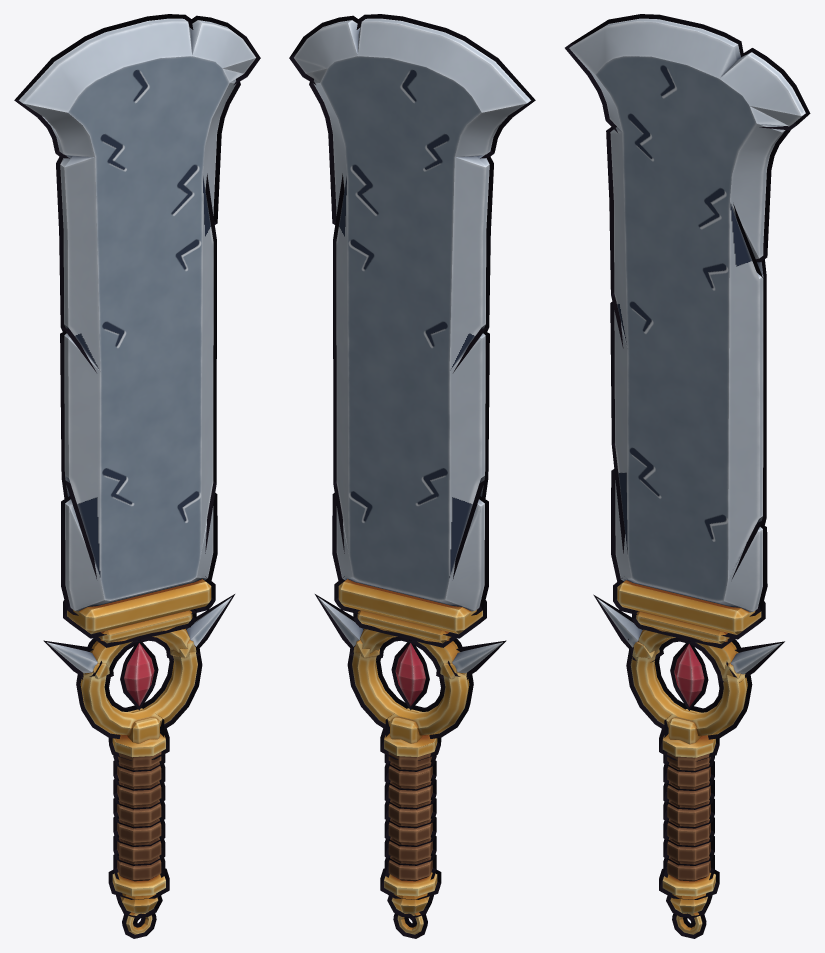
The model's file is CleaverSword.fbx.
3 renders of one model, left to right at view 1: azimuth 30°, elevation 25°; view 2: azimuth 150°, elevation 25°; view 3: azimuth 330°, elevation 25°, orthographic.
Visible parts, largest first — view 1: CleaverSword, CleaverSwordOutline; view 2: CleaverSword, CleaverSwordOutline; view 3: CleaverSword, CleaverSwordOutline.
Boxes of the visible parts, <box> form: CleaverSword: <box>19,18,255,934</box>; CleaverSwordOutline: <box>14,14,260,938</box>; CleaverSword: <box>294,18,530,934</box>; CleaverSwordOutline: <box>289,14,535,938</box>; CleaverSword: <box>569,18,805,934</box>; CleaverSwordOutline: <box>565,14,810,938</box>.
Bounding box in the file's own units: 134 × 487 × 30.46.
2 materials, 1 textured.
